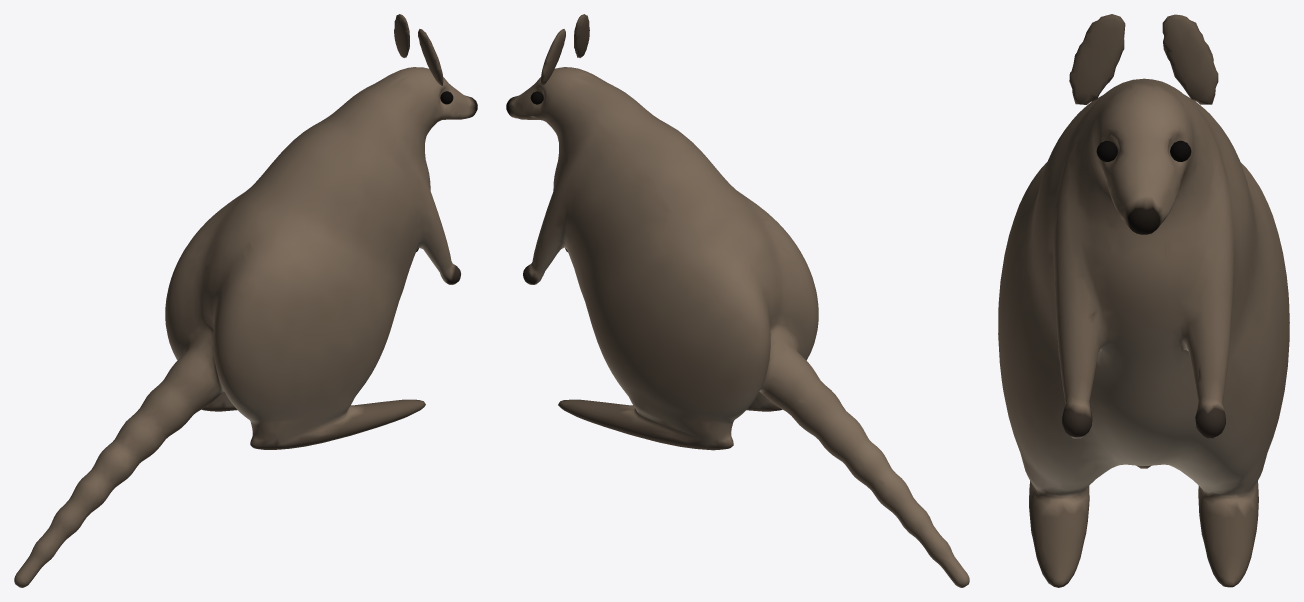
The model's file is wallaby.glb.
The picture shows the model from 3 angles, left to right: view 1: azimuth 30°, elevation 25°; view 2: azimuth 150°, elevation 25°; view 3: azimuth 270°, elevation 25°; orthographic projection. The views are drawn at different scales.
Parts seen in each view (by area): view 1: wallaby; view 2: wallaby; view 3: wallaby.
Boxes of the visible parts, x1=… form: wallaby: x1=14, y1=14, x2=477, y2=587; wallaby: x1=506, y1=14, x2=969, y2=587; wallaby: x1=998, y1=14, x2=1289, y2=587.
Size of the model in its own units: 1.06 by 1.03 by 0.3586.
